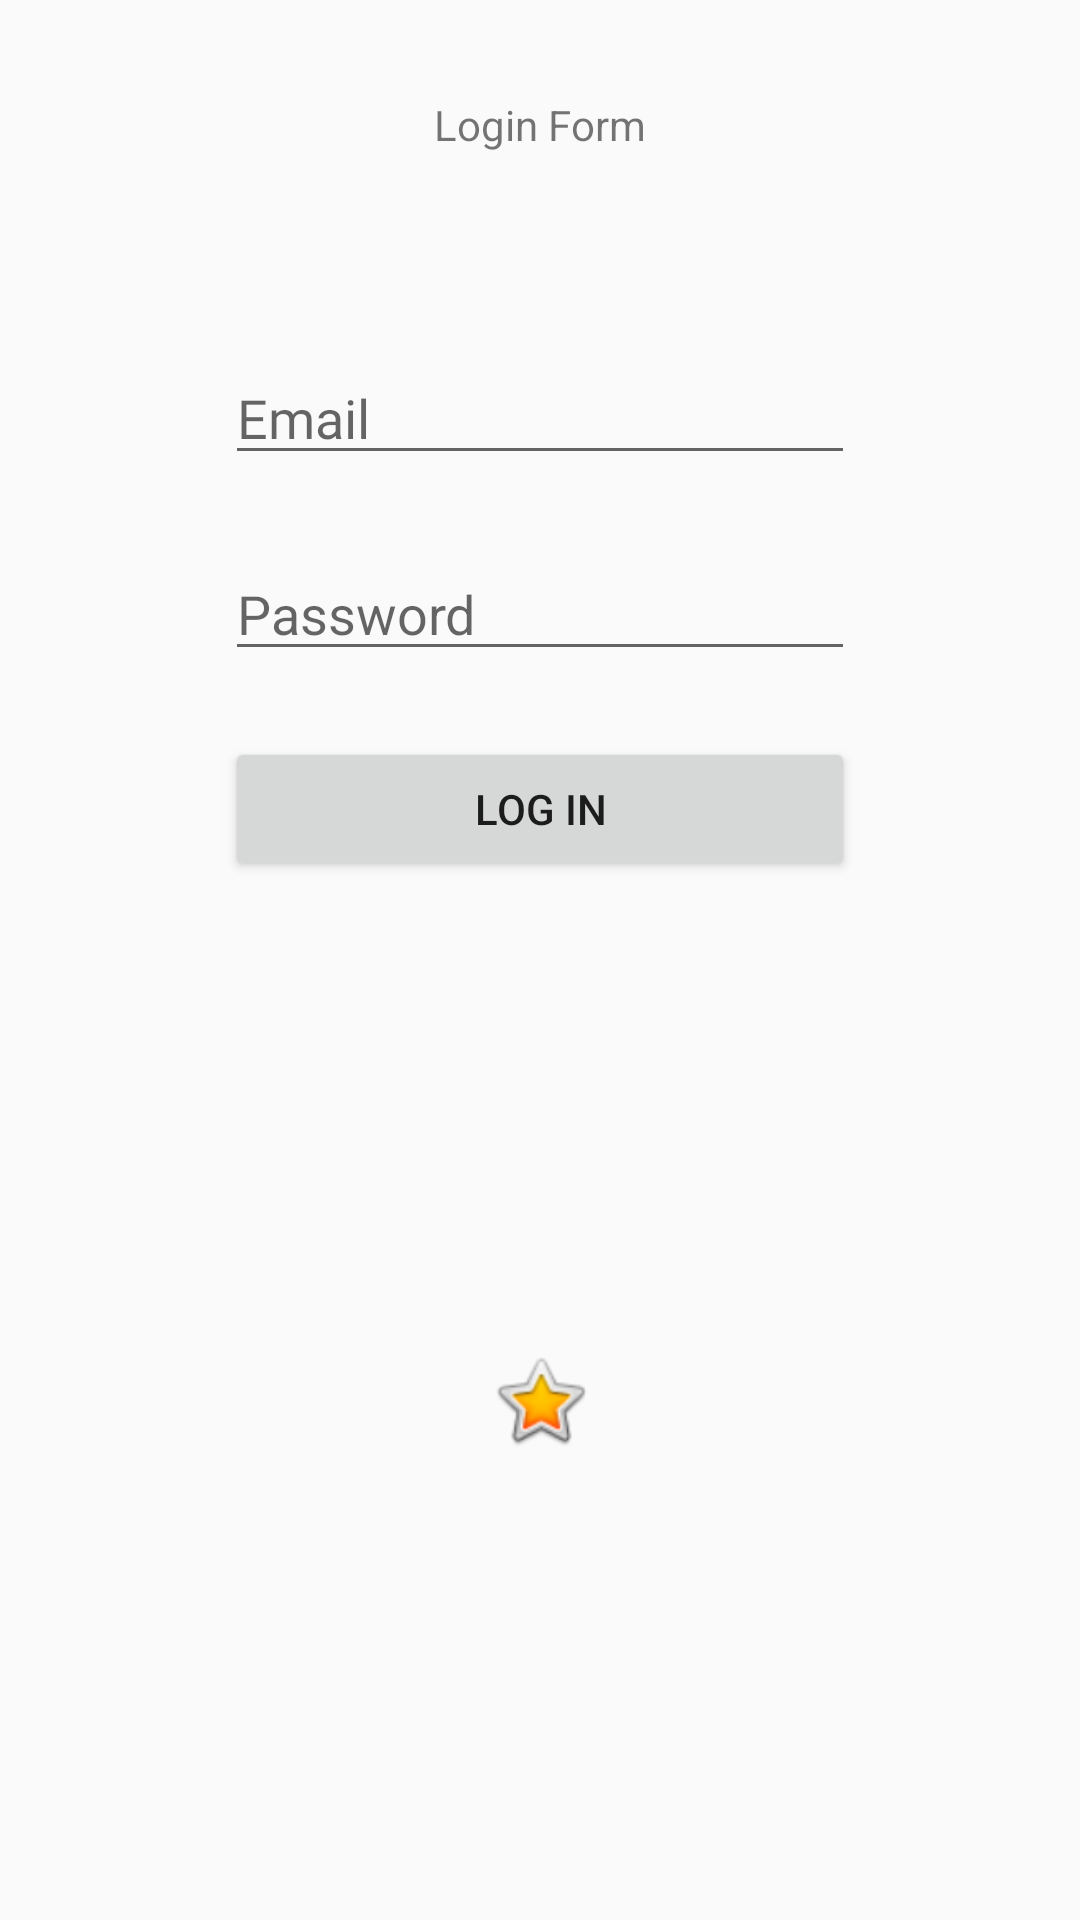

Where icons sit on this 1080w x 1920h app screen, as (x1, y1, x2, y2):
star on: (497, 1359, 585, 1444)
